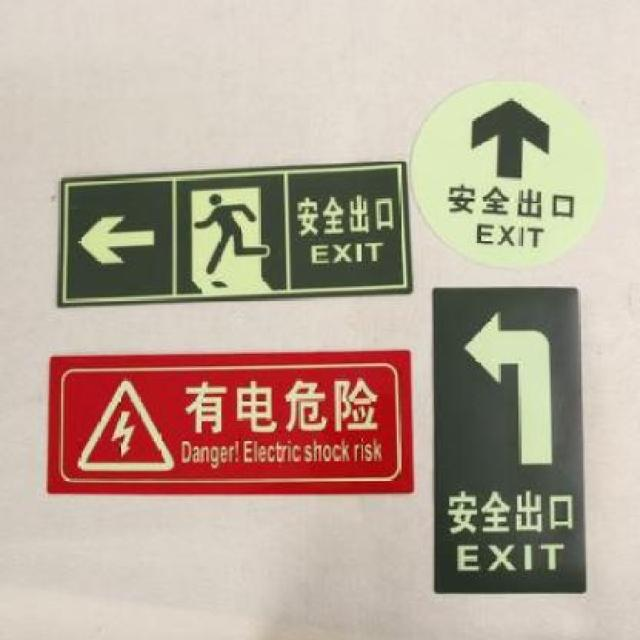exit_sign: (56, 171, 417, 302)
